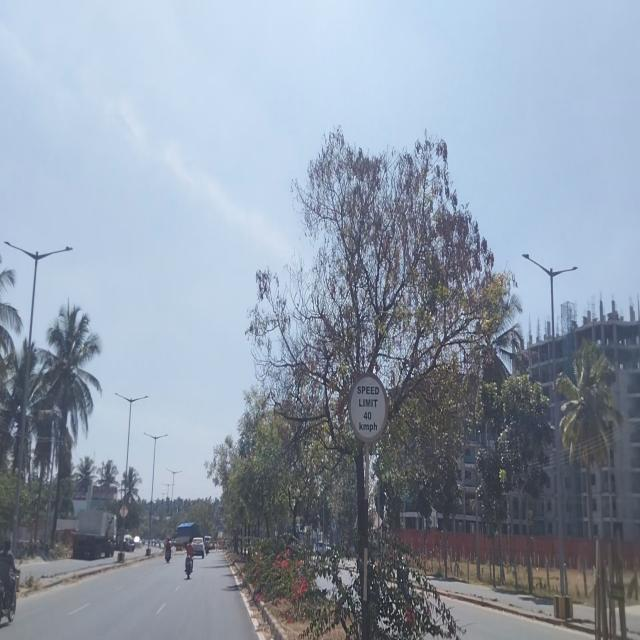bien_cam: (348, 370, 390, 445)
